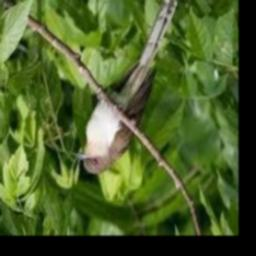Cuckoo: (78, 0, 179, 174)
